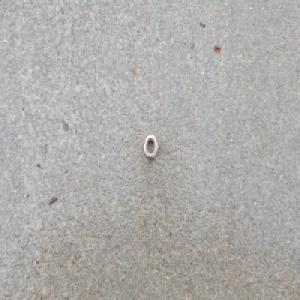Nut: (142, 132, 158, 160)
